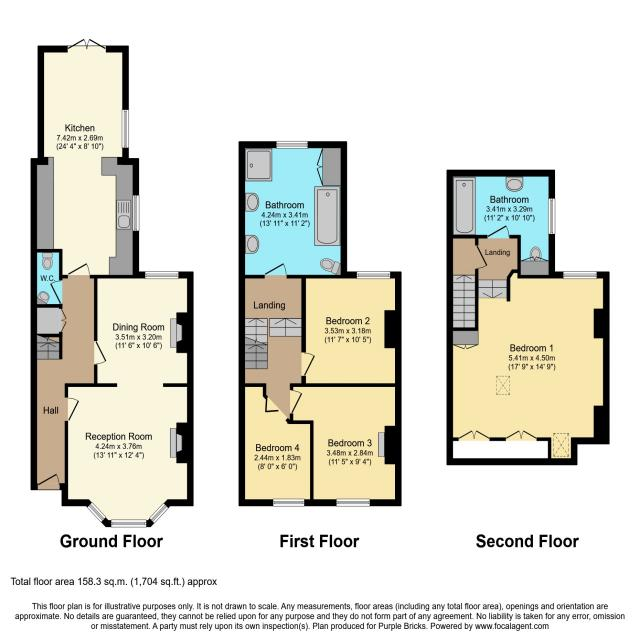DOOR: (37, 472, 61, 490), (67, 261, 91, 279), (64, 396, 80, 422), (264, 262, 287, 279), (301, 352, 316, 377), (475, 244, 489, 270), (49, 279, 63, 305), (486, 225, 510, 239), (290, 389, 303, 414), (94, 340, 107, 365)
ROOM: (61, 271, 194, 528), (446, 269, 610, 466), (30, 37, 140, 279), (290, 383, 402, 506), (301, 271, 402, 387), (238, 383, 314, 507)
WINDOW: (86, 501, 107, 524), (148, 502, 169, 525), (110, 519, 147, 528), (121, 109, 129, 149), (336, 498, 370, 507), (272, 498, 305, 507), (548, 198, 556, 235), (132, 195, 140, 232), (276, 140, 308, 149), (356, 271, 391, 279), (563, 271, 597, 279), (145, 271, 179, 279)
